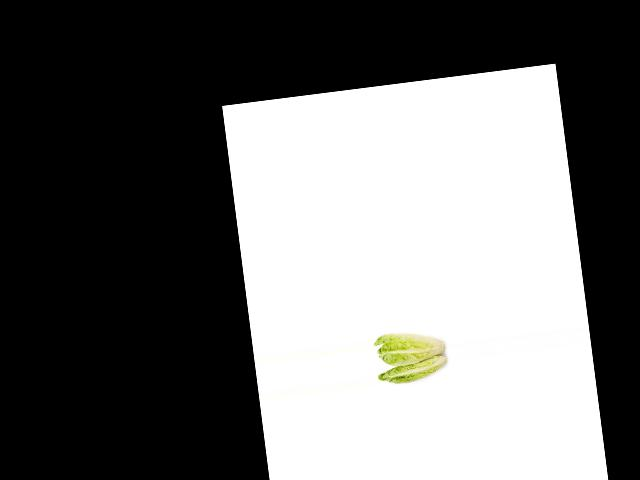lettuce: (375, 352, 454, 393)
